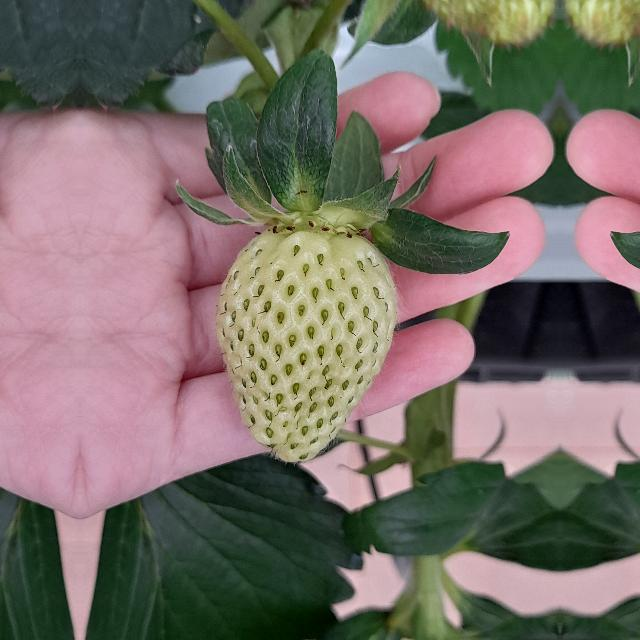Health_25: (216, 225, 397, 461)
